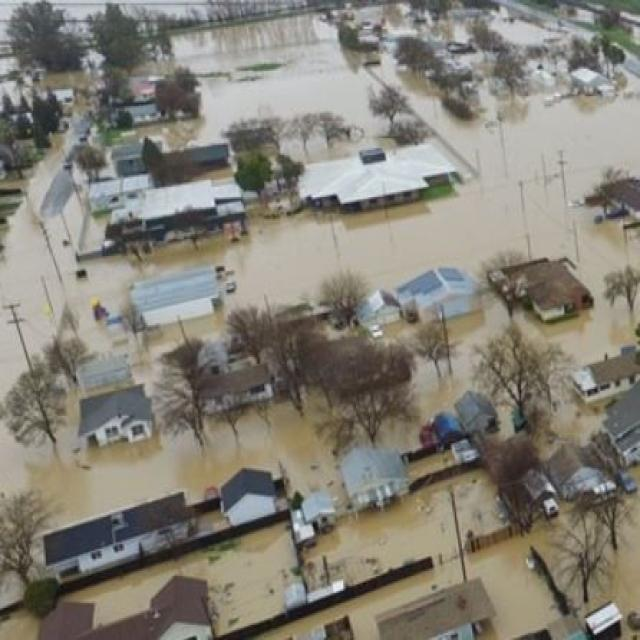flooded_areas: (63, 39, 639, 638)
